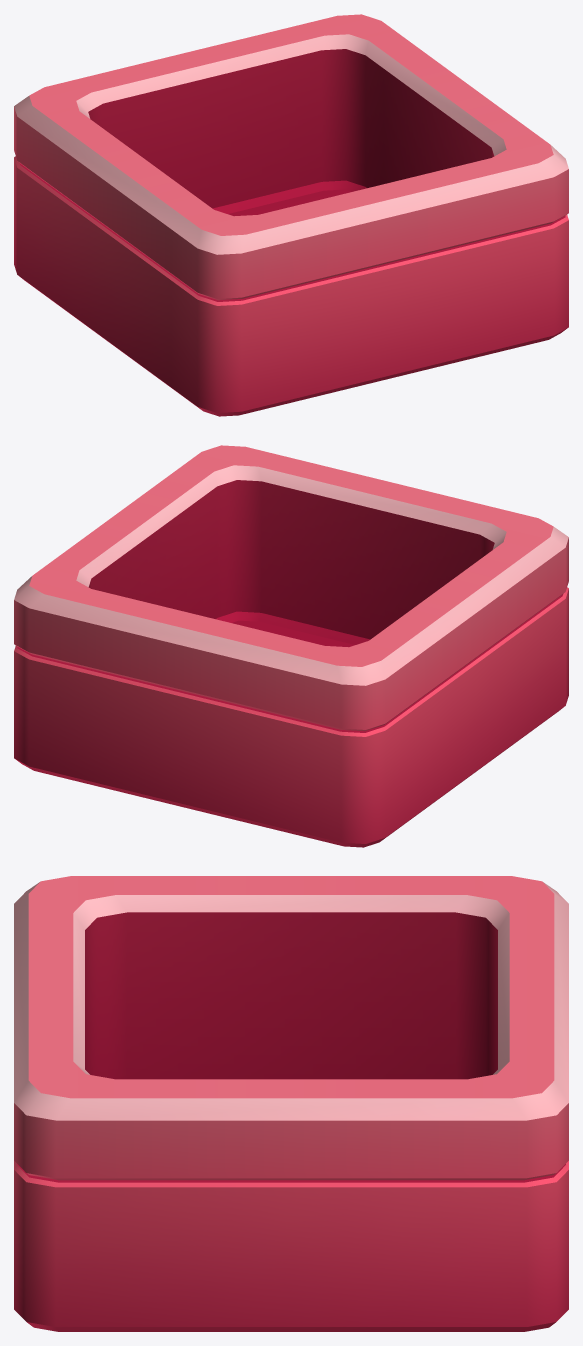
The model's file is Mdl_Box_Pink.fbx.
3 views of the same model, one above another, from view 1: azimuth 30°, elevation 25°; view 2: azimuth 150°, elevation 25°; view 3: azimuth 270°, elevation 25° (orthographic). The views are drawn at different scales.
Visible parts, largest first — view 1: Mesh_Box; view 2: Mesh_Box; view 3: Mesh_Box.
Part boxes in pixels (box(x1,y1,x2,y2)): Mesh_Box: box(14, 14, 568, 416); Mesh_Box: box(14, 445, 568, 847); Mesh_Box: box(14, 876, 568, 1331).
Bounding box in the file's own units: 520 × 239 × 520.
